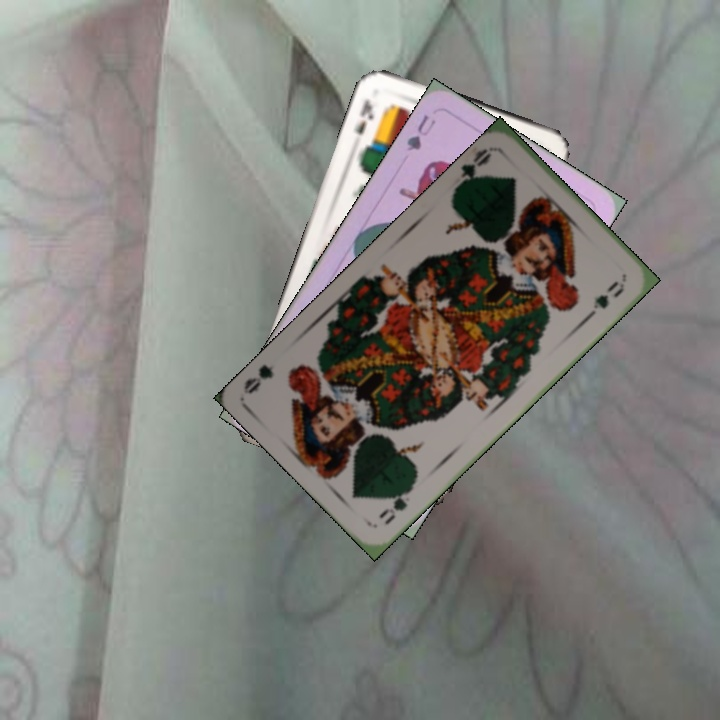EK: (350, 94, 376, 137)
GO: (451, 144, 495, 191), (374, 479, 417, 527)
GU: (402, 110, 438, 154)
